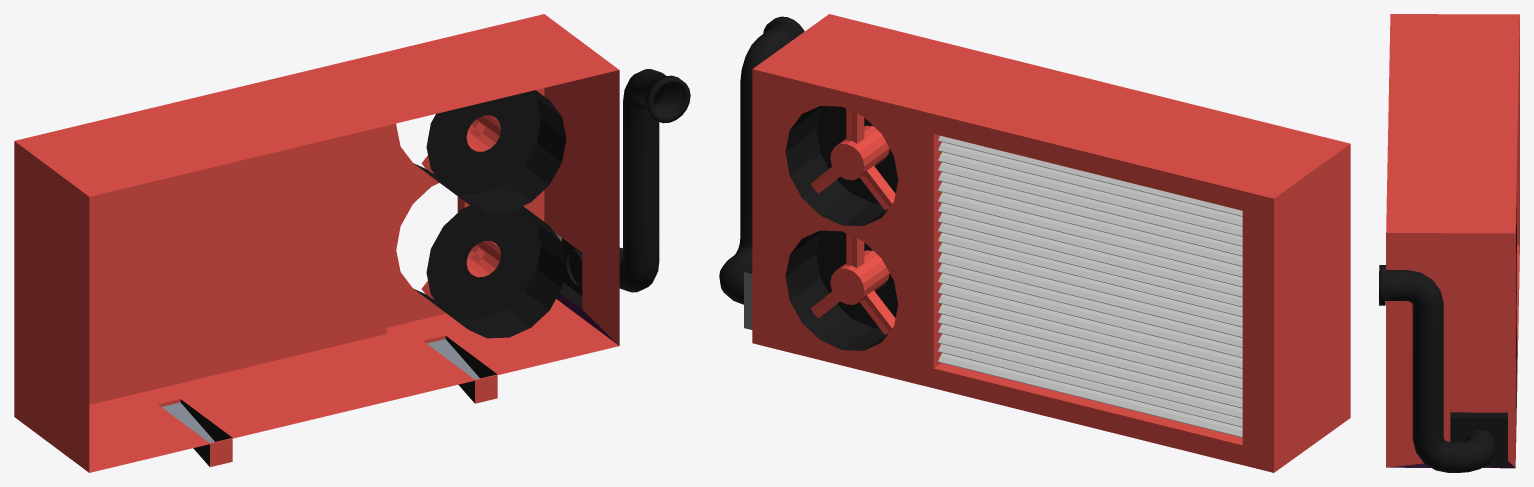
File: AC_Mirrored.fbx
3 views of the same model, side by side, from view 1: azimuth 30°, elevation 25°; view 2: azimuth 150°, elevation 25°; view 3: azimuth 270°, elevation 25° (orthographic). The views are drawn at different scales.
Parts seen in each view (by area): view 1: AC MODEL.001; view 2: AC MODEL.001; view 3: AC MODEL.001.
Boxes of the visible parts, x1=… form: AC MODEL.001: x1=14, y1=14, x2=690, y2=472; AC MODEL.001: x1=719, y1=14, x2=1350, y2=472; AC MODEL.001: x1=1379, y1=14, x2=1519, y2=472.
Bounding box in the file's own units: 186 × 89.62 × 44.84.
Materials: 2 (1 with a texture image).
